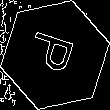P_E: (26, 29, 84, 81)
